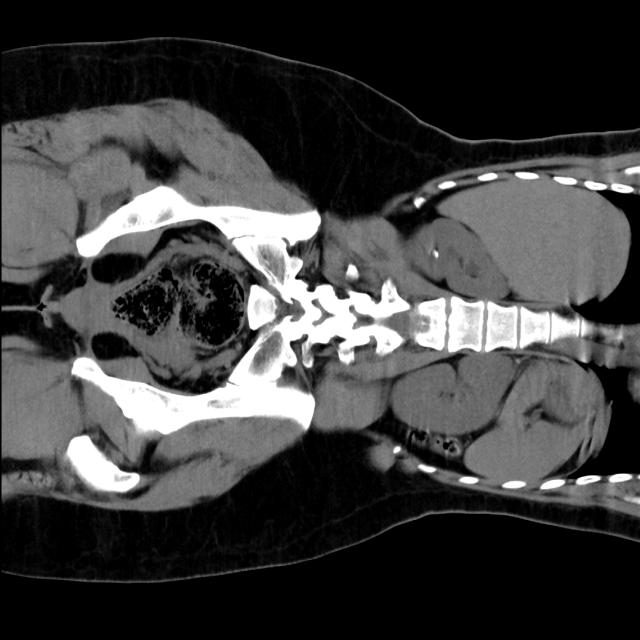kidneystone: (431, 249, 438, 259)
